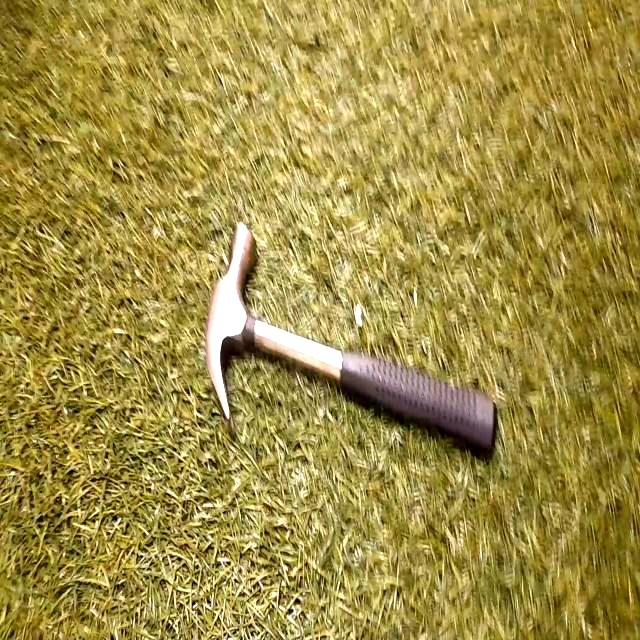hammer: (208, 220, 497, 464)
